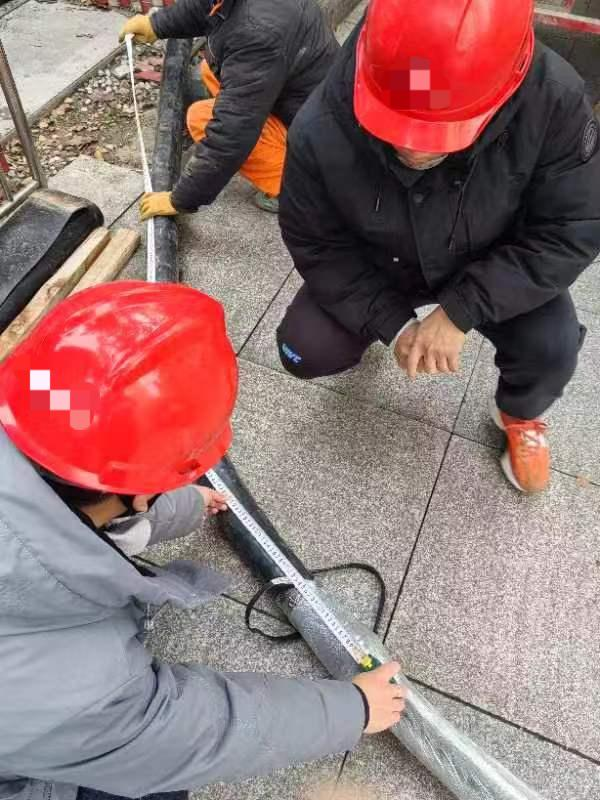halt: (2, 282, 245, 504), (346, 3, 539, 175)
